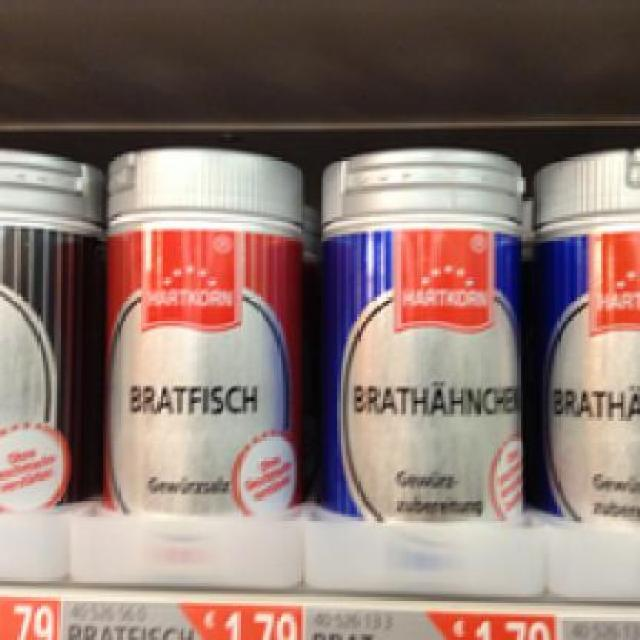Spices: (314, 140, 523, 523), (100, 142, 297, 515), (528, 146, 638, 520)
